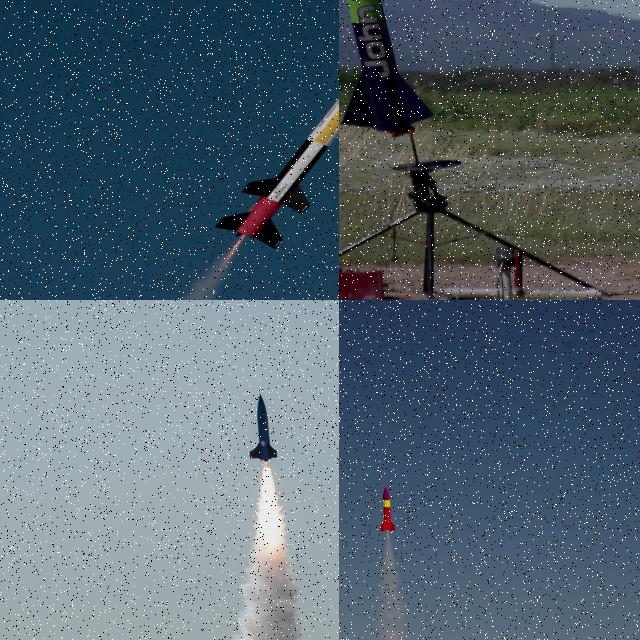Rocket: (213, 59, 339, 250), (339, 0, 436, 140), (249, 392, 278, 462), (380, 486, 397, 533)
